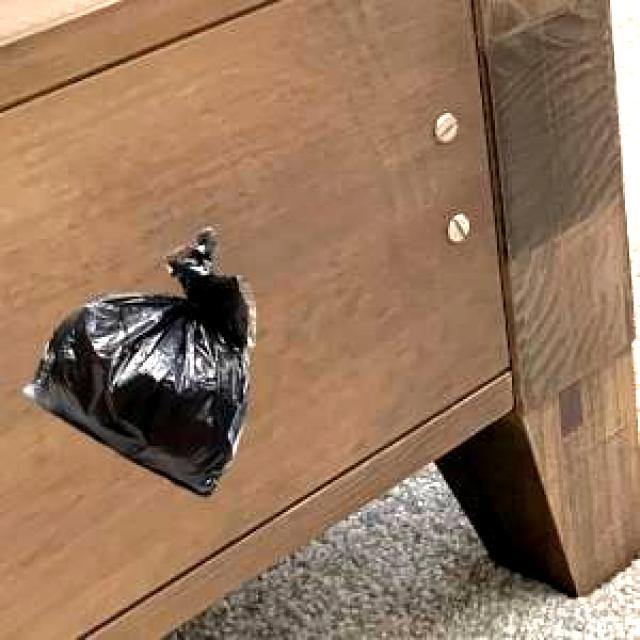Garbage_Bag: (22, 225, 253, 494)
